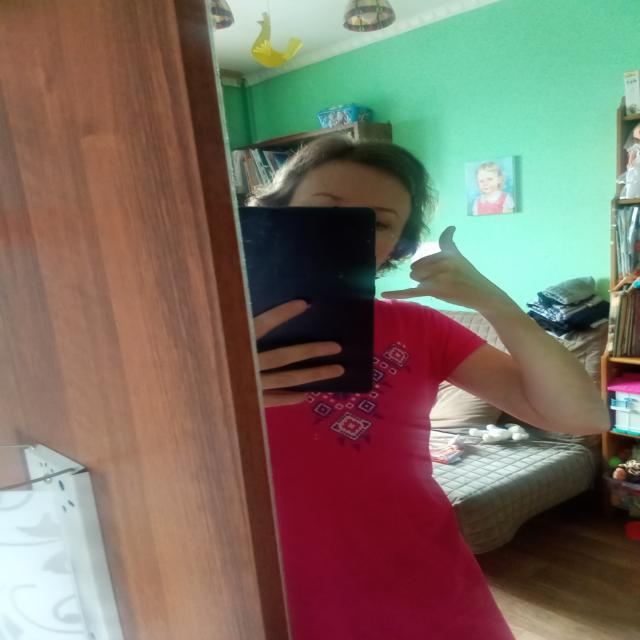call: (377, 224, 492, 310)
